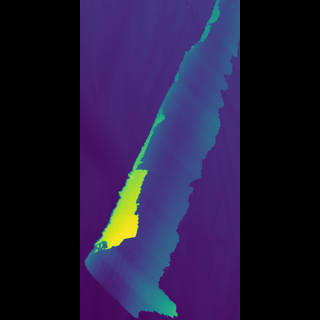Loch: (121, 2, 201, 318)
